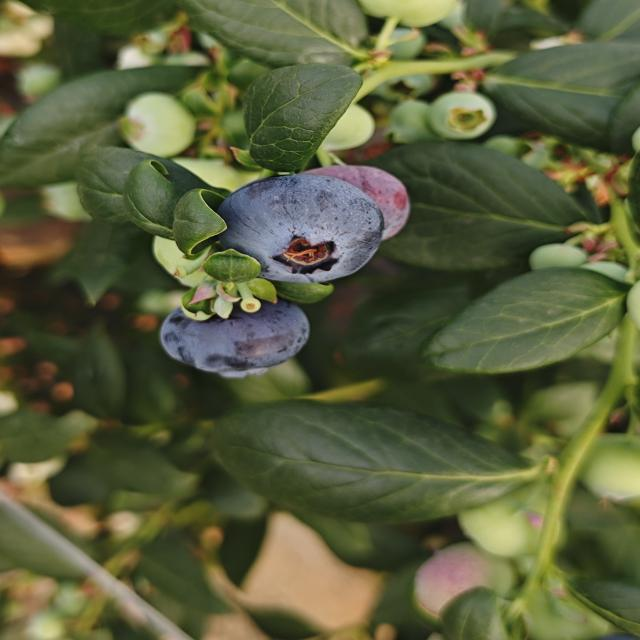ripe: (211, 166, 387, 286), (156, 295, 312, 380), (292, 156, 414, 246)
